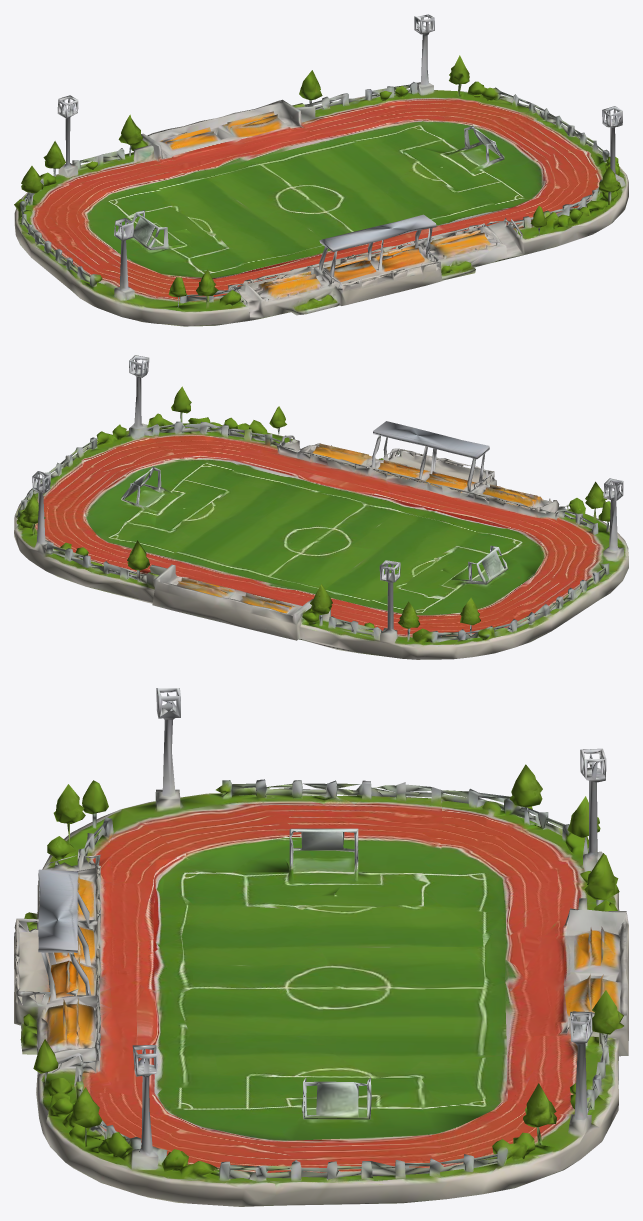
The model's file is stadium.glb.
The picture shows the model from 3 angles, top to bottom: view 1: azimuth 30°, elevation 25°; view 2: azimuth 150°, elevation 25°; view 3: azimuth 270°, elevation 25°; orthographic projection. The views are drawn at different scales.
Parts seen in each view (by area): view 1: tripo_node_c8a0506d-7f5f-45cc-879d-2f360f78b9b5; view 2: tripo_node_c8a0506d-7f5f-45cc-879d-2f360f78b9b5; view 3: tripo_node_c8a0506d-7f5f-45cc-879d-2f360f78b9b5.
Boxes of the visible parts, x1,y1,x2,y2 form: tripo_node_c8a0506d-7f5f-45cc-879d-2f360f78b9b5: (14, 14, 628, 326); tripo_node_c8a0506d-7f5f-45cc-879d-2f360f78b9b5: (14, 355, 628, 659); tripo_node_c8a0506d-7f5f-45cc-879d-2f360f78b9b5: (14, 688, 628, 1206).
Bounding box in the file's own units: 0.9995 × 0.1625 × 0.6575.
1 material, 1 textured.
